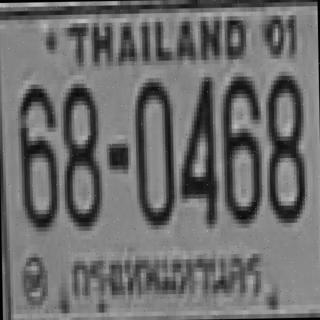N00: (133, 76, 173, 223)
N04: (177, 72, 214, 224)
N06: (220, 72, 260, 219), (17, 80, 57, 227)
N08: (60, 79, 100, 226), (264, 71, 304, 218)
P04: (67, 246, 266, 312)
